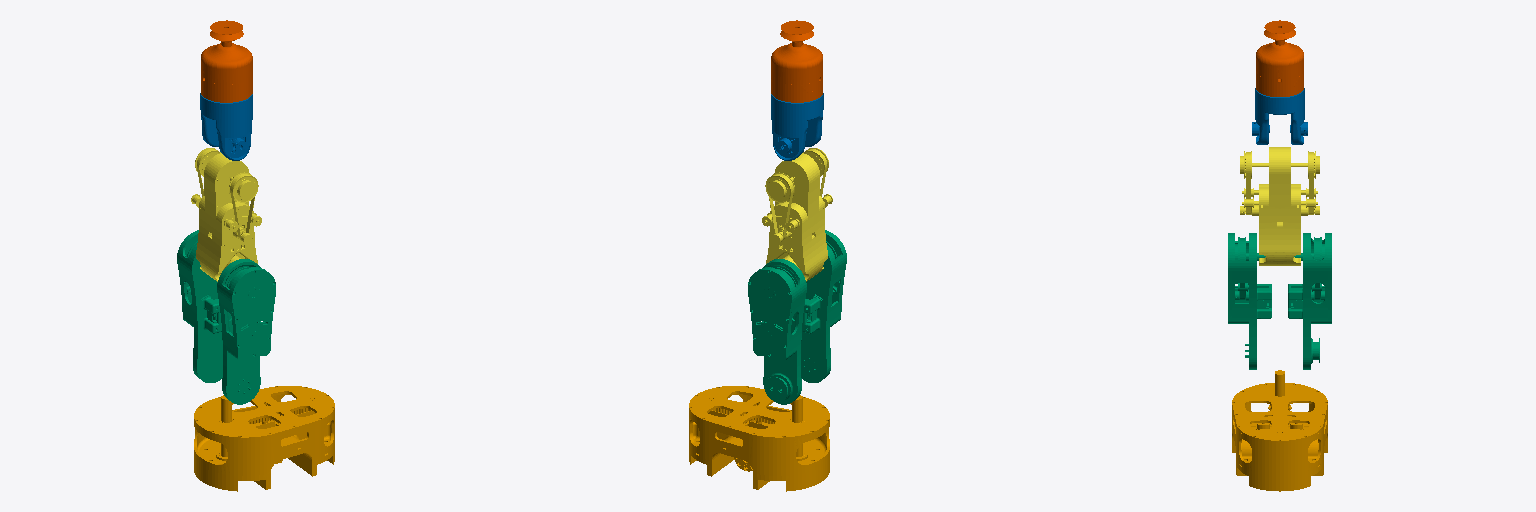
URDF robot description (robot_arm_5axis_suction):
<?xml version="1.0"?>
<robot name="robot_arm_5axis_suction">

  <link name="link1">
    <inertial>
      <origin xyz="0 0 0" rpy="0 0 0"/>
      <mass value="1.0"/>
      <inertia ixx="0.01" ixy="0" ixz="0" iyy="0.01" iyz="0" izz="0.01"/>
    </inertial>
    <visual>
      <origin xyz="0 0 0" rpy="0 0 0"/>
      <geometry>
        <mesh filename="robot_meshes/link1.stl" scale="0.001 0.001 0.001"/>
      </geometry>
    </visual>
    <collision>
      <origin xyz="0 0 0" rpy="0 0 0"/>
      <geometry>
        <mesh filename="robot_meshes/link1.stl" scale="0.001 0.001 0.001"/>
      </geometry>
    </collision>
  </link>

  <link name="link2">
    <inertial>
      <origin xyz="0 0 0" rpy="0 0 0"/>
      <mass value="1.0"/>
      <inertia ixx="0.01" ixy="0" ixz="0" iyy="0.01" iyz="0" izz="0.01"/>
    </inertial>
    <visual>
      <origin xyz="0 0 0" rpy="0 0 0"/>
      <geometry>
        <mesh filename="robot_meshes/link2.stl" scale="0.001 0.001 0.001"/>
      </geometry>
    </visual>
    <collision>
      <origin xyz="0 0 0" rpy="0 0 0"/>
      <geometry>
        <mesh filename="robot_meshes/link2.stl" scale="0.001 0.001 0.001"/>
      </geometry>
    </collision>
  </link>

  <link name="link3">
    <inertial>
      <origin xyz="0 0 0" rpy="0 0 0"/>
      <mass value="1.0"/>
      <inertia ixx="0.01" ixy="0" ixz="0" iyy="0.01" iyz="0" izz="0.01"/>
    </inertial>
    <visual>
      <origin xyz="0 0 0" rpy="0 0 0"/>
      <geometry>
        <mesh filename="robot_meshes/link3.stl" scale="0.001 0.001 0.001"/>
      </geometry>
    </visual>
    <collision>
      <origin xyz="0 0 0" rpy="0 0 0"/>
      <geometry>
        <mesh filename="robot_meshes/link3.stl" scale="0.001 0.001 0.001"/>
      </geometry>
    </collision>
  </link>

  <link name="link4">
    <inertial>
      <origin xyz="0 0 0" rpy="0 0 0"/>
      <mass value="1.0"/>
      <inertia ixx="0.01" ixy="0" ixz="0" iyy="0.01" iyz="0" izz="0.01"/>
    </inertial>
    <visual>
      <origin xyz="0 0 0" rpy="0 0 0"/>
      <geometry>
        <mesh filename="robot_meshes/link4.stl" scale="0.001 0.001 0.001"/>
      </geometry>
    </visual>
    <collision>
      <origin xyz="0 0 0" rpy="0 0 0"/>
      <geometry>
        <mesh filename="robot_meshes/link4.stl" scale="0.001 0.001 0.001"/>
      </geometry>
    </collision>
  </link>

  <link name="link5">
    <inertial>
      <origin xyz="0 0 0" rpy="0 0 0"/>
      <mass value="1.0"/>
      <inertia ixx="0.01" ixy="0" ixz="0" iyy="0.01" iyz="0" izz="0.01"/>
    </inertial>
    <visual>
      <origin xyz="0 0 0" rpy="0 0 0"/>
      <geometry>
        <mesh filename="robot_meshes/link5.stl" scale="0.001 0.001 0.001"/>
      </geometry>
    </visual>
    <collision>
      <origin xyz="0 0 0" rpy="0 0 0"/>
      <geometry>
        <mesh filename="robot_meshes/link5.stl" scale="0.001 0.001 0.001"/>
      </geometry>
    </collision>
  </link>

  <link name="suction">
    <inertial>
      <origin xyz="0 0 0" rpy="0 0 0"/>
      <mass value="0.5"/>
      <inertia ixx="0.005" ixy="0" ixz="0" iyy="0.005" iyz="0" izz="0.005"/>
    </inertial>
    <visual>
      <origin xyz="0 0 0" rpy="0 0 0"/>
      <geometry>
        <mesh filename="robot_meshes/suction.stl" scale="0.001 0.001 0.001"/>
      </geometry>
    </visual>
    <collision>
      <origin xyz="0 0 0" rpy="0 0 0"/>
      <geometry>
        <mesh filename="robot_meshes/suction.stl" scale="0.001 0.001 0.001"/>
      </geometry>
    </collision>
  </link>

  <link name="suction_end"/>

  <!-- ===== JOINTS ===== -->
  <joint name="joint1" type="revolute">
    <parent link="link1"/><child link="link2"/>
    <origin xyz="-0.0945 0 0.105" rpy="0 0 0"/>
    <axis xyz="0 0 1"/>
    <limit lower="-3.14" upper="3.14" effort="10" velocity="1"/>
  </joint>

  <joint name="joint2" type="revolute">
    <parent link="link2"/><child link="link3"/>
    <origin xyz="0 0 0.09" rpy="0 0 0"/>
    <axis xyz="0 1 0"/>
    <limit lower="-3.14" upper="3.14" effort="10" velocity="1"/>
  </joint>

  <joint name="joint3" type="revolute">
    <parent link="link3"/><child link="link4"/>
    <origin xyz="0 0 0.22" rpy="0 0 0"/>
    <axis xyz="0 1 0"/>
    <limit lower="-3.14" upper="3.14" effort="10" velocity="1"/>
  </joint>

  <joint name="joint4" type="revolute">
    <parent link="link4"/><child link="link5"/>
    <origin xyz="0 0 0.24" rpy="0 0 0"/>
    <axis xyz="0 1 0"/>
    <limit lower="-3.14" upper="3.14" effort="10" velocity="1"/>
  </joint>

  <joint name="joint5" type="revolute">
    <parent link="link5"/><child link="suction"/>
    <origin xyz="0 0 0.087" rpy="0 0 0"/>
    <axis xyz="0 0 1"/>
    <limit lower="-3.14" upper="3.14" effort="10" velocity="1"/>
  </joint>

  <joint name="suction_fixed" type="fixed">
    <parent link="suction"/><child link="suction_end"/>
    <origin xyz="0 0 0.1245" rpy="0 0 0"/>
  </joint>

</robot>

--- What the picture shows (computed from the rendered views, not written in the file) ---
3 views of the same robot in one strip: view 1: azimuth 30°, elevation 25°; view 2: azimuth 150°, elevation 25°; view 3: azimuth 270°, elevation 25° (orthographic).
Robot: robot_arm_5axis_suction — 7 links, 6 joints (5 revolute, 1 fixed); root link link1; default pose: all joints at 0.
Visible links, largest first — view 1: link1, link3, link4, suction, link5; view 2: link1, link3, link4, suction, link5; view 3: link1, link3, link4, suction, link5.
Link boxes in pixels (left/top/right/bottom): link1: left=194, top=386, right=334, bottom=491; link3: left=177, top=230, right=275, bottom=404; link4: left=191, top=148, right=261, bottom=281; suction: left=201, top=20, right=252, bottom=102; link5: left=200, top=93, right=252, bottom=160; link1: left=689, top=386, right=829, bottom=491; link3: left=748, top=230, right=846, bottom=404; link4: left=762, top=148, right=832, bottom=281; suction: left=771, top=20, right=822, bottom=102; link5: left=771, top=93, right=823, bottom=160; link1: left=1232, top=370, right=1327, bottom=491; link3: left=1228, top=233, right=1331, bottom=369; link4: left=1240, top=147, right=1319, bottom=265; suction: left=1256, top=20, right=1303, bottom=96; link5: left=1252, top=88, right=1307, bottom=144.
Bounding box of the posed robot: 0.2595 × 0.194 × 0.8685 m (x, y, z).
Meshes: 6 distinct files referenced, 5 mesh visuals loaded (5 binary STL); not drawn: 1 (reference not matched to a file when rendering).
